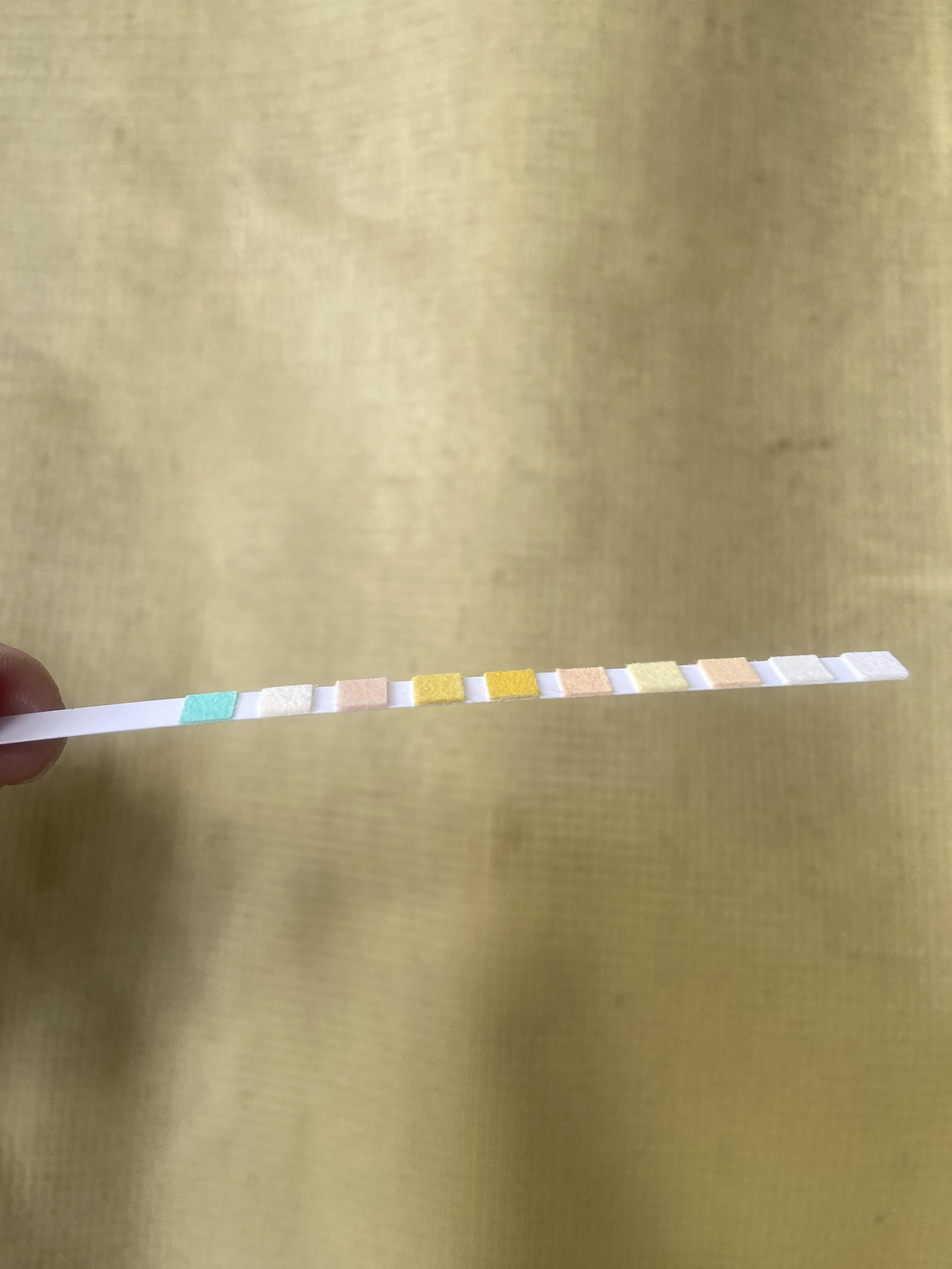Bilirubin: (264, 690, 309, 710)
Blood: (491, 673, 535, 693)
Glucose: (189, 696, 230, 718)
Ketone: (339, 683, 385, 704)
Leukocytes: (787, 657, 819, 679), (865, 653, 889, 675)
Protein: (642, 664, 676, 685)
SpGravity: (414, 678, 463, 698)
Urobilinogen: (714, 660, 747, 681)
pH: (569, 669, 602, 693)
strip: (0, 651, 909, 744)
